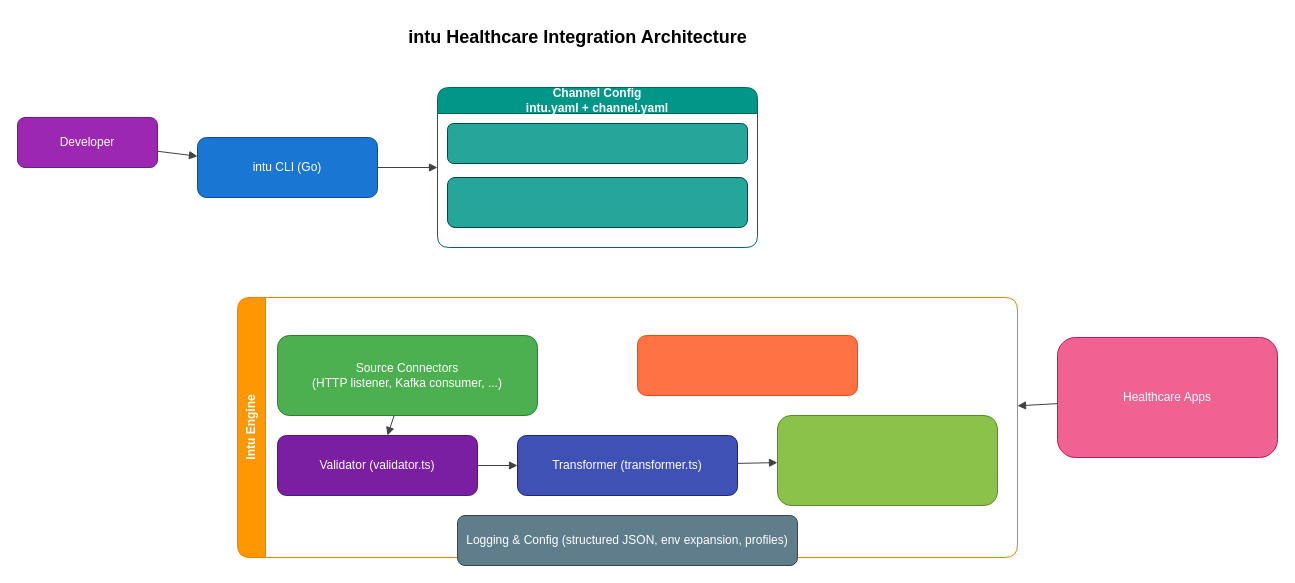
The diagram is 1295 pixels wide and 583 high, and some of its shapes have lost their labels. The centre of each missing label's shape, as x and y in pixels:
"channels/* transformer.ts + validator.ts" goes at (597,202).
"Destination Connectors (HTTP sender, Kafka producer, ...)" goes at (887,460).
"Embedded JS Runtime (goja)" goes at (747,365).
"YAML: intu.yaml + profiles" goes at (597,143).
